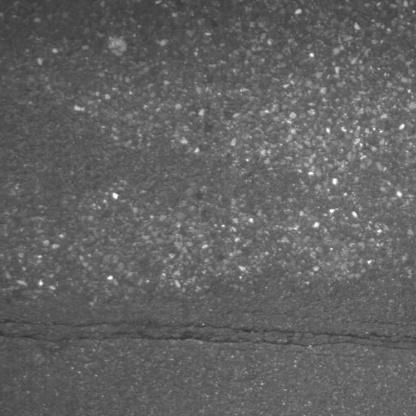Cracks: (0, 314, 416, 356)
